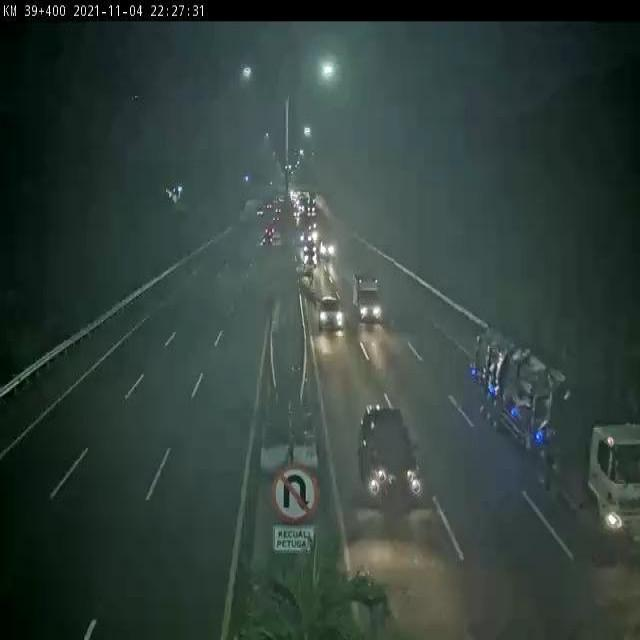car: (359, 403, 425, 505), (318, 294, 345, 329)
truck-s-: (352, 272, 383, 321)
truck-xl-: (474, 327, 640, 544)
